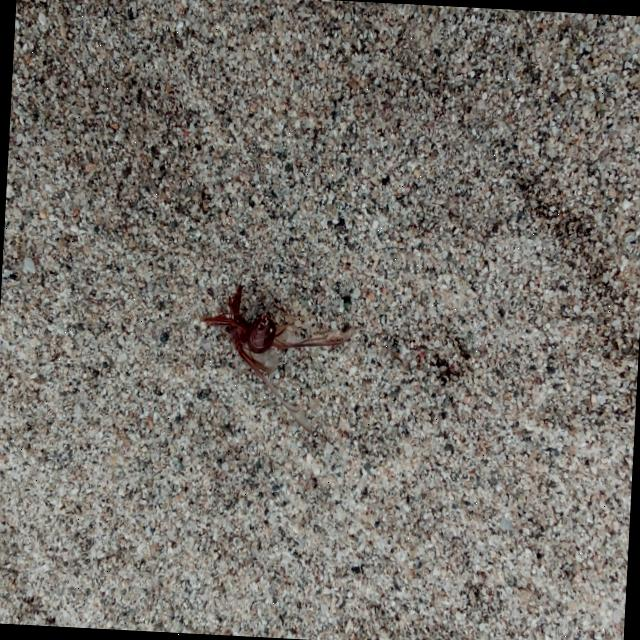Dead-Male-Alate: (195, 282, 357, 434)
